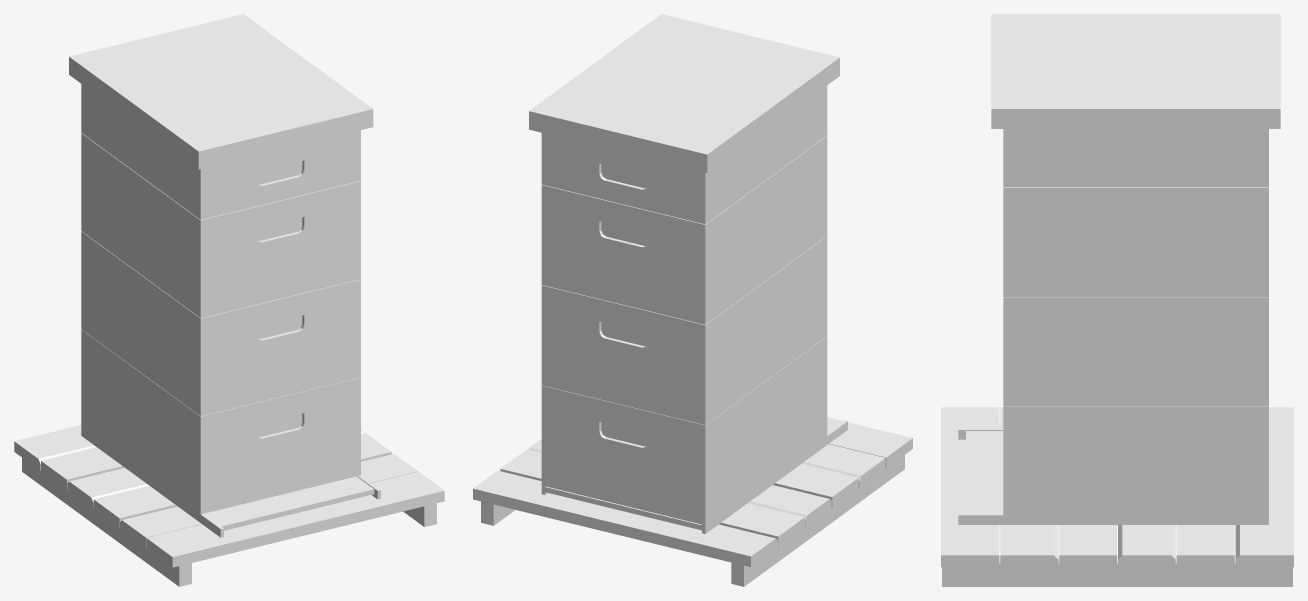
Rendered from Bld_Beehive_05.glb.
3 renders of one model, left to right at view 1: azimuth 30°, elevation 25°; view 2: azimuth 150°, elevation 25°; view 3: azimuth 270°, elevation 25°, orthographic. The views are drawn at different scales.
Visible parts, largest first — view 1: Bld_Beehive_05; view 2: Bld_Beehive_05; view 3: Bld_Beehive_05.
Part boxes in pixels (bbox=[...]): Bld_Beehive_05: bbox=[14, 14, 444, 586]; Bld_Beehive_05: bbox=[473, 14, 912, 586]; Bld_Beehive_05: bbox=[941, 14, 1293, 586].
Size of the model in its own units: 1.05 by 1.51 by 1.06.
Materials: 1 (1 with a texture image).
